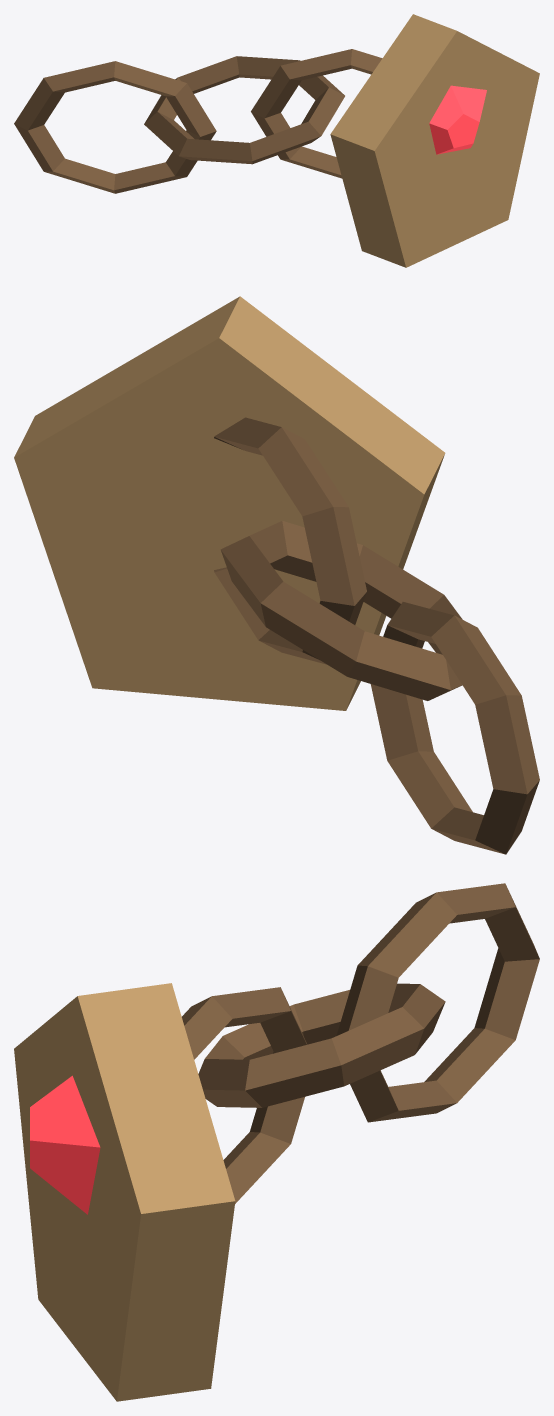
The model's file is BrokenDrop.glb.
3 views of the same model, one above another, from view 1: azimuth 30°, elevation 25°; view 2: azimuth 150°, elevation 25°; view 3: azimuth 270°, elevation 25° (orthographic). The views are drawn at different scales.
Parts seen in each view (by area): view 1: BrokenDrop; view 2: BrokenDrop; view 3: BrokenDrop.
Part boxes in pixels (box(x1,y1,x2,y2)): BrokenDrop: box(14, 14, 539, 267); BrokenDrop: box(14, 296, 539, 854); BrokenDrop: box(14, 883, 539, 1401).
Size of the model in its own units: 0.4352 by 0.2171 by 0.2918.
